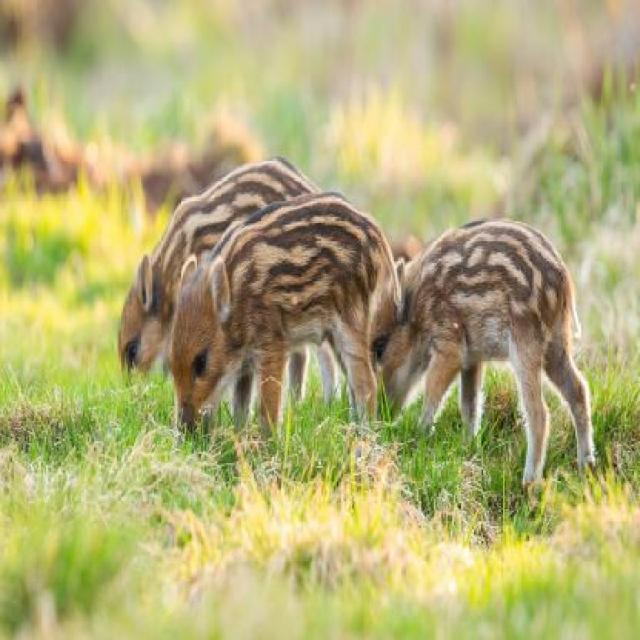wildboar: (115, 147, 377, 439), (362, 213, 608, 502), (167, 188, 416, 472)
